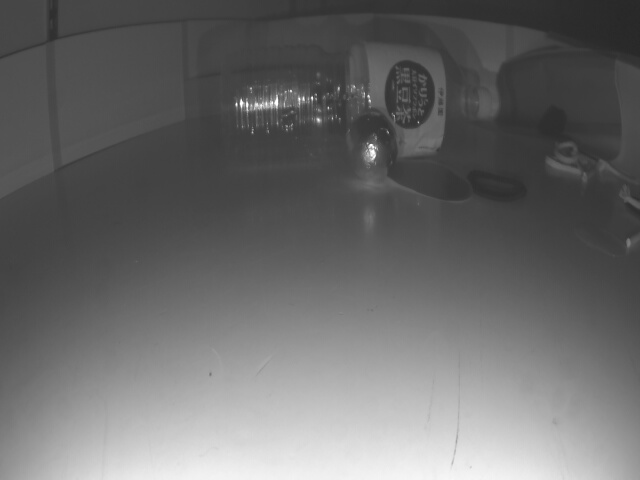Live: (345, 110, 394, 179)
